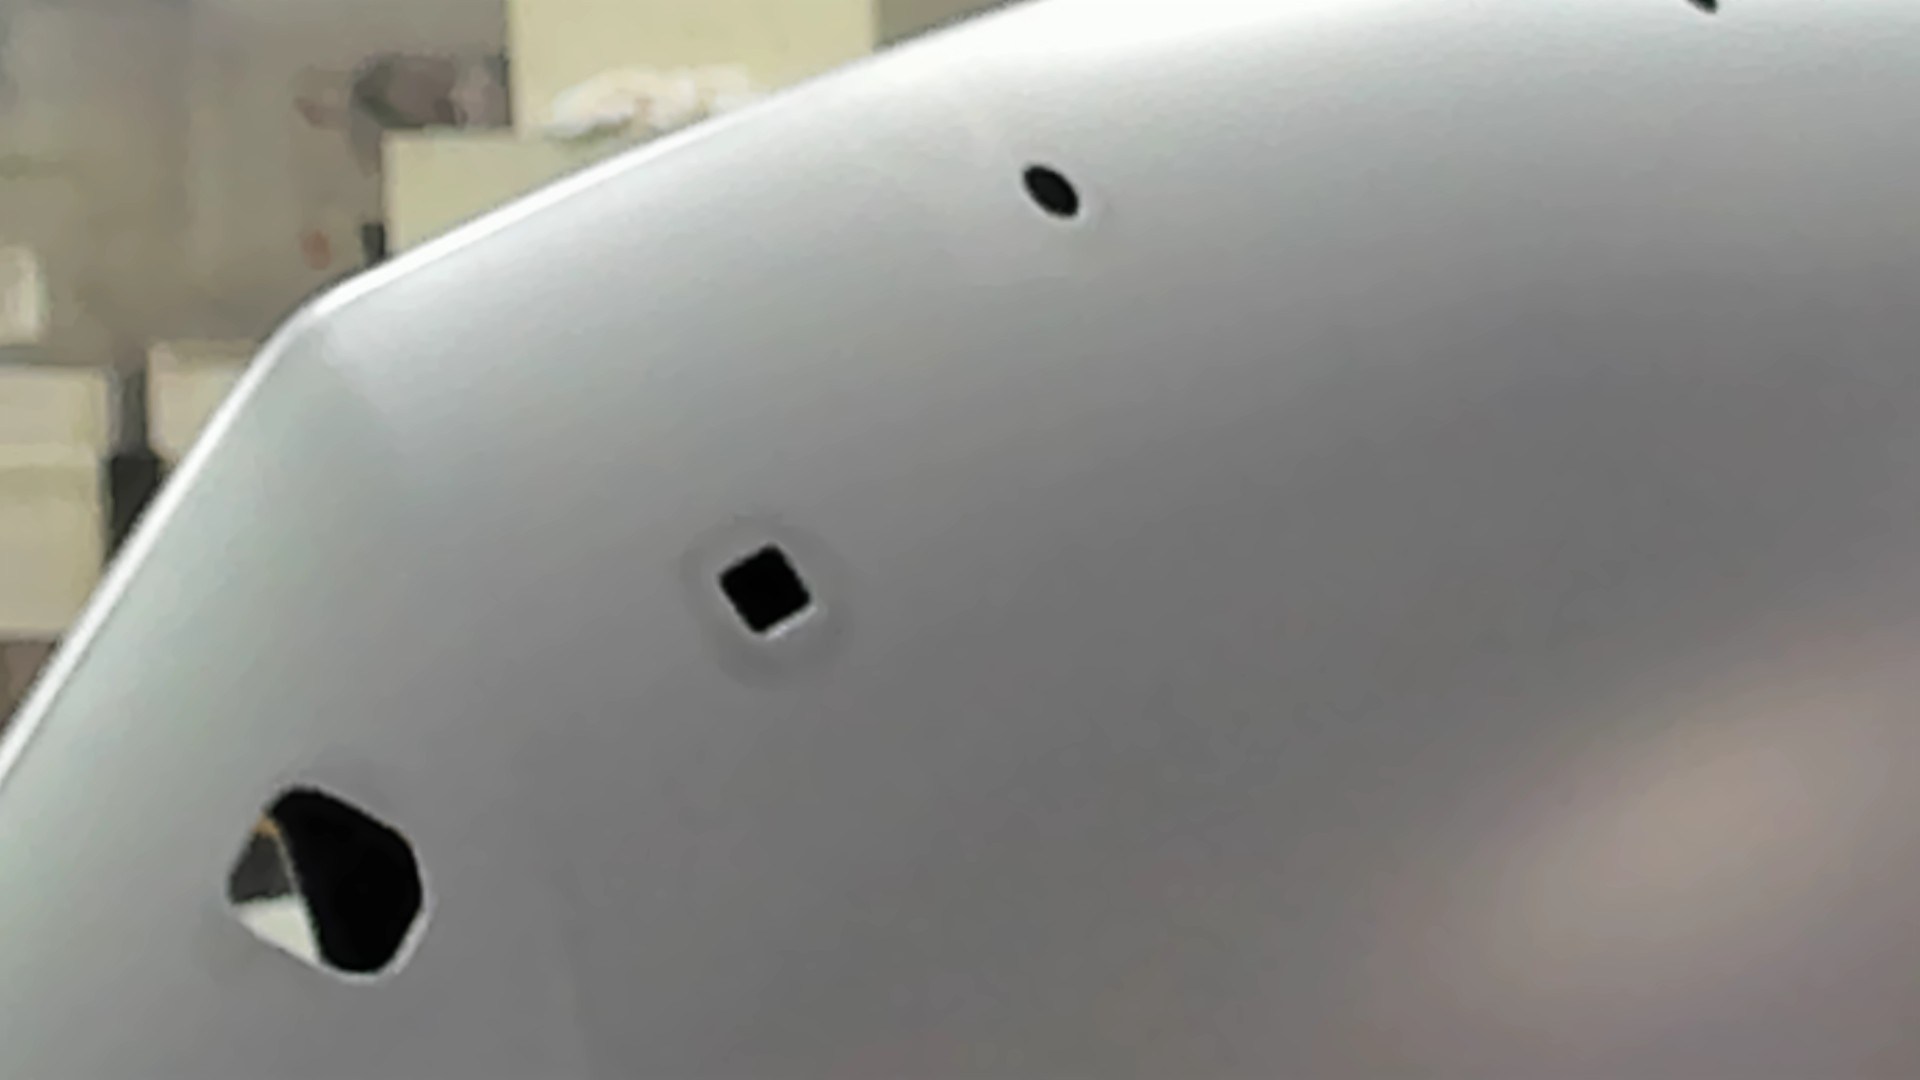chico: (1015, 161, 1084, 222), (1687, 1, 1727, 22)
grande: (222, 774, 430, 986)
mediano: (711, 538, 819, 644)
